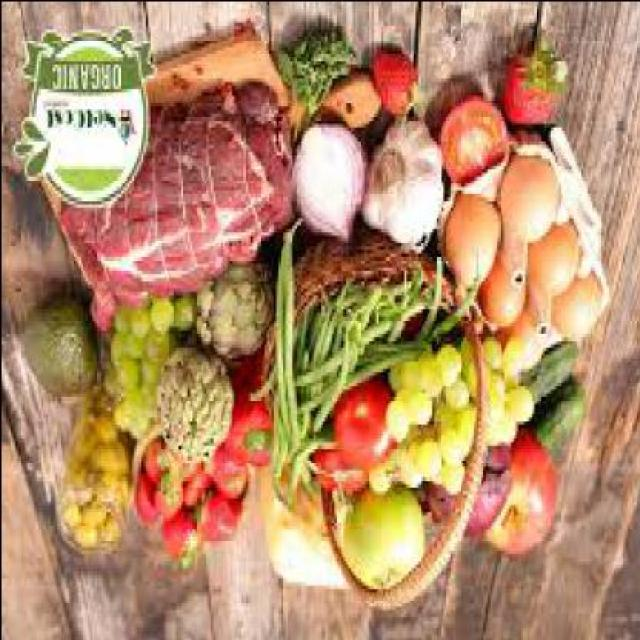BIODEGRADABLE: (58, 80, 296, 329), (258, 472, 354, 602), (293, 308, 441, 388), (363, 119, 445, 255), (488, 434, 560, 560), (158, 353, 236, 469), (295, 125, 368, 248), (196, 262, 276, 364), (349, 486, 426, 591), (430, 454, 510, 549), (277, 217, 305, 469), (23, 302, 95, 398), (442, 98, 510, 196), (504, 38, 568, 140), (310, 286, 353, 434), (336, 381, 398, 479), (279, 38, 352, 118), (447, 195, 501, 294), (498, 161, 559, 248), (340, 277, 432, 332), (342, 342, 438, 392), (272, 437, 331, 514), (418, 255, 472, 338), (531, 384, 586, 456), (528, 228, 580, 304), (249, 342, 305, 406), (285, 228, 300, 462), (221, 398, 270, 469), (321, 77, 382, 132), (518, 346, 577, 402), (551, 283, 603, 346), (372, 53, 419, 119), (477, 262, 523, 328), (316, 448, 366, 503), (163, 515, 200, 573), (198, 496, 238, 546), (500, 308, 538, 360), (214, 451, 248, 497), (503, 343, 535, 382), (136, 476, 158, 532), (183, 472, 214, 511), (510, 384, 533, 430), (457, 412, 481, 456), (438, 462, 465, 500), (70, 422, 93, 466), (161, 478, 184, 522), (88, 413, 120, 444), (435, 353, 460, 392), (388, 406, 410, 448), (90, 445, 122, 472), (440, 434, 465, 468), (85, 475, 118, 500), (408, 396, 435, 426), (149, 300, 174, 332), (388, 367, 421, 391), (170, 298, 193, 332), (131, 300, 149, 343), (424, 360, 442, 403), (109, 339, 128, 378), (491, 370, 507, 416), (401, 458, 424, 489), (79, 500, 107, 525), (147, 448, 165, 486), (368, 466, 390, 496), (420, 452, 442, 482), (437, 406, 458, 437), (65, 462, 84, 496), (498, 413, 517, 447), (148, 339, 170, 367), (484, 342, 502, 375), (391, 454, 407, 486), (117, 308, 132, 342), (142, 364, 158, 394), (125, 342, 144, 367), (76, 528, 98, 549), (449, 389, 468, 413), (488, 420, 501, 454), (107, 368, 121, 398), (103, 525, 119, 549), (116, 415, 135, 434), (141, 399, 154, 426), (66, 510, 80, 532), (126, 368, 134, 398), (136, 419, 144, 444), (401, 396, 407, 410)
